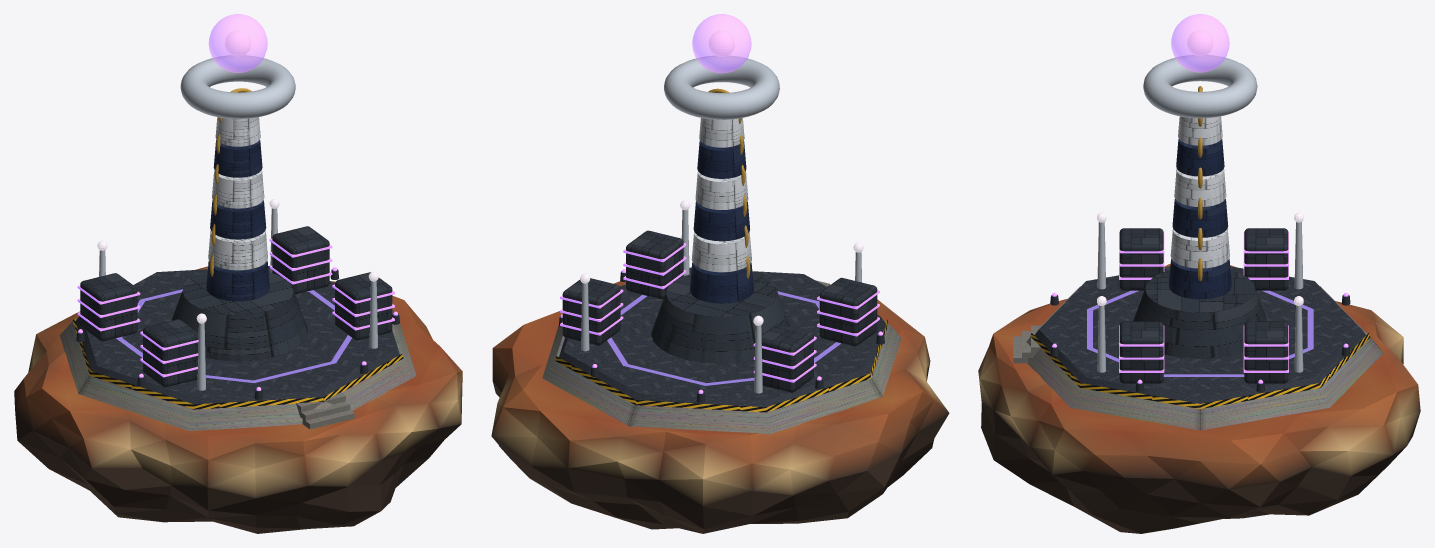
File: emp-L25.glb
3 views of the same model, side by side, from view 1: azimuth 30°, elevation 25°; view 2: azimuth 150°, elevation 25°; view 3: azimuth 270°, elevation 25° (orthographic).
Parts seen in each view (by area): view 1: object 1, object 4, object 2, object 50, object 63, object 34, object 26, object 38, anim:orb, object 30, object 3, object 51 (+8 smaller); view 2: object 1, object 4, object 2, object 50, object 63, object 26, object 30, object 34, anim:orb, object 38, object 3, object 51 (+8 smaller); view 3: object 1, object 4, object 2, object 50, object 63, anim:orb, object 38, object 30, object 34, object 26, object 3, object 51 (+10 smaller).
Part boxes in pixels (<box>): object 1: <box>14,266,462,533</box>; object 4: <box>75,266,399,404</box>; object 2: <box>59,310,416,430</box>; object 50: <box>171,272,308,361</box>; object 63: <box>180,55,295,118</box>; object 34: <box>80,273,137,341</box>; object 26: <box>143,319,198,387</box>; object 38: <box>272,226,329,294</box>; anim:orb: <box>208,14,267,72</box>; object 30: <box>335,272,392,340</box>; object 3: <box>72,317,403,409</box>; object 51: <box>206,261,269,301</box>; object 1: <box>491,281,949,533</box>; object 4: <box>559,267,885,407</box>; object 2: <box>542,320,901,434</box>; object 50: <box>651,274,790,363</box>; object 63: <box>664,56,779,119</box>; object 26: <box>819,277,877,346</box>; object 30: <box>626,230,683,299</box>; object 34: <box>761,324,813,392</box>; anim:orb: <box>692,14,751,73</box>; object 38: <box>562,278,620,345</box>; object 3: <box>555,319,888,412</box>; object 51: <box>690,262,753,303</box>; object 1: <box>978,264,1420,533</box>; object 4: <box>1034,266,1365,403</box>; object 2: <box>1026,286,1383,430</box>; object 50: <box>1133,270,1267,358</box>; object 63: <box>1143,55,1257,118</box>; anim:orb: <box>1171,14,1229,72</box>; object 38: <box>1244,321,1288,383</box>; object 30: <box>1119,321,1163,383</box>; object 34: <box>1244,228,1288,290</box>; object 26: <box>1119,228,1163,290</box>; object 3: <box>1030,333,1370,408</box>; object 51: <box>1169,259,1231,299</box>.
Bounding box in the file's own units: 6.16 × 6.88 × 6.03.
15 materials, 6 textured.
